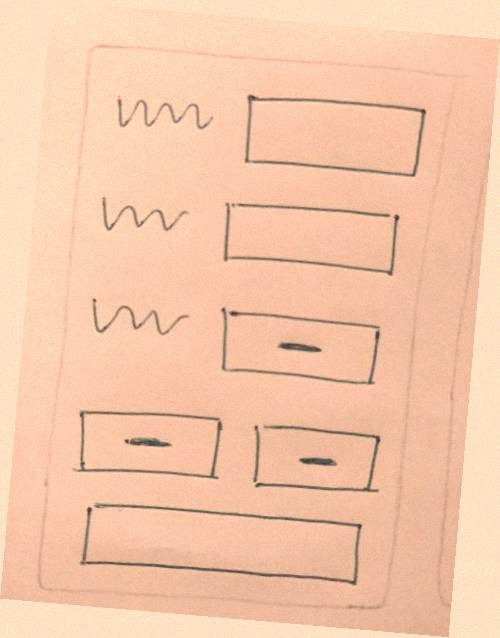button: (209, 297, 389, 394), (68, 399, 228, 488), (240, 414, 390, 503)
text: (74, 285, 202, 355), (82, 182, 210, 251), (99, 83, 226, 152)
text_input: (69, 491, 373, 597), (214, 185, 410, 288), (234, 83, 429, 186)
